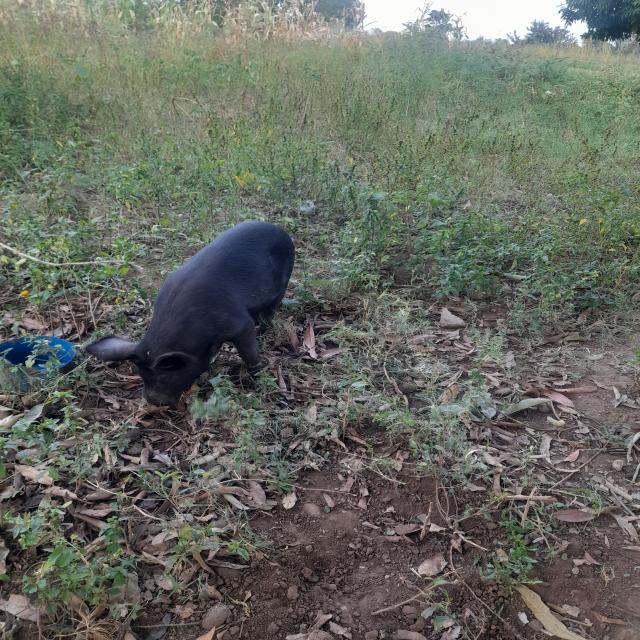pig: (56, 202, 371, 462)
